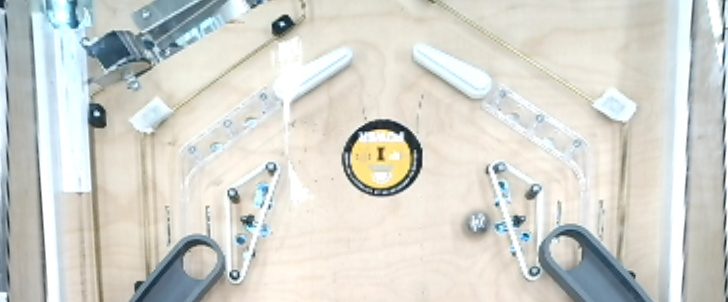ball: (456, 205, 497, 241)
flipper-left: (410, 41, 498, 108)
flipper-right: (269, 39, 358, 105)
